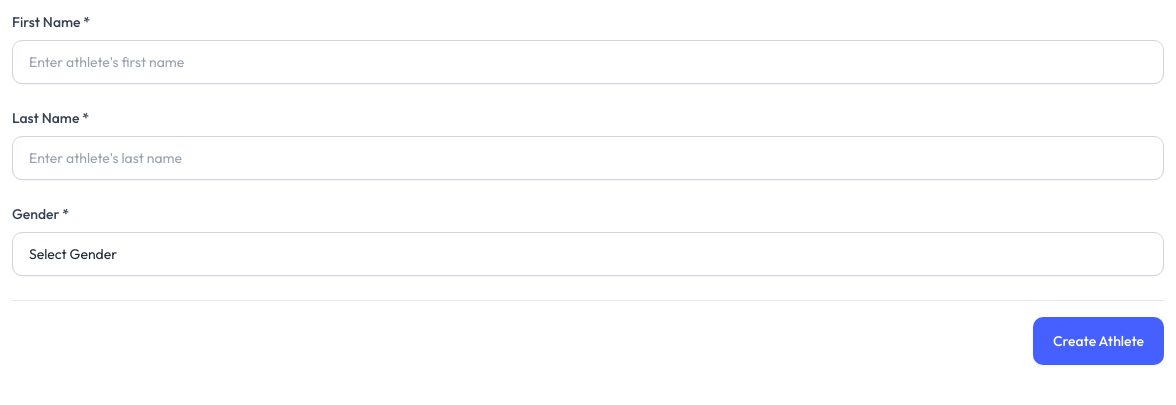
Test: AthleteForm › Error Handling › handles validation errors from API
# Fill and submit form with invalid data
Type "J" into the field labelled "First Name *" at [588, 62], box [12, 40, 1164, 84]
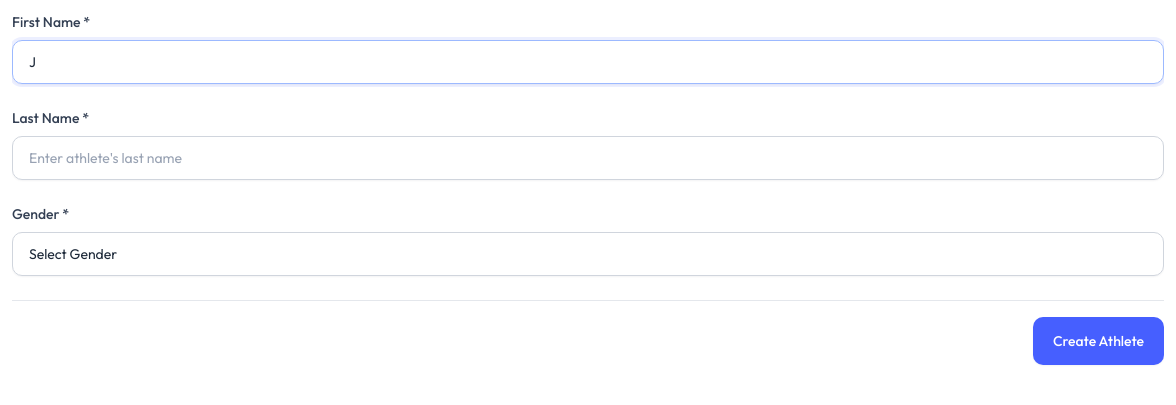
Select "Male" in the dropdown labelled "Gender *" at [588, 254], box [12, 232, 1164, 276]
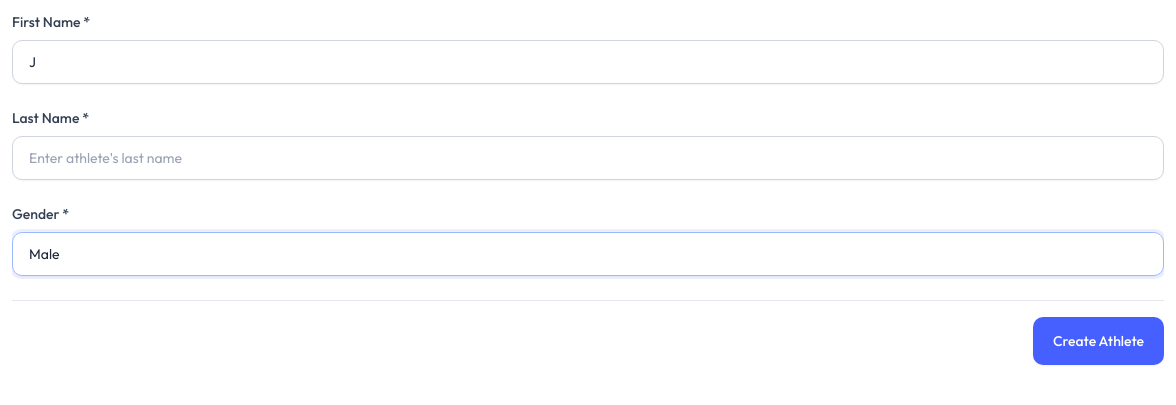
Click the button "Create Athlete" at [1098, 341], box [1033, 317, 1164, 365]
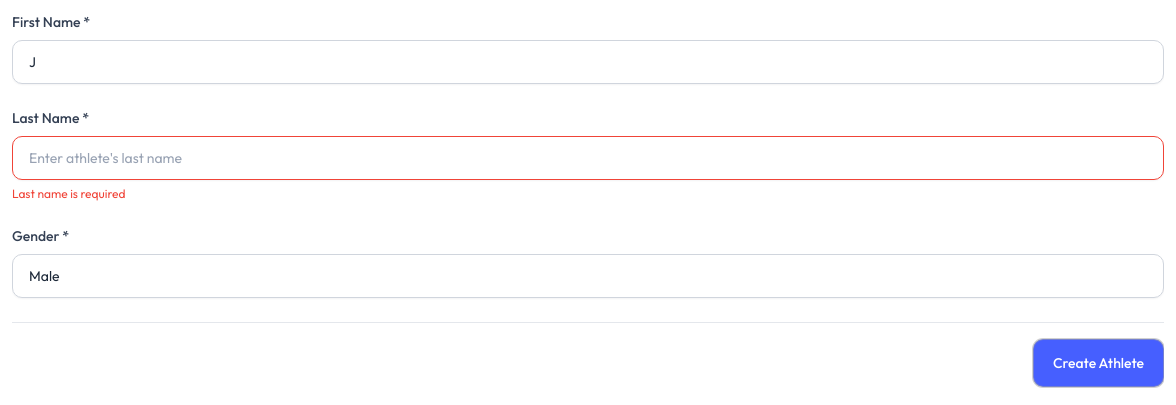
Now the text "Last name is required" is shown, box [12, 186, 126, 201]
